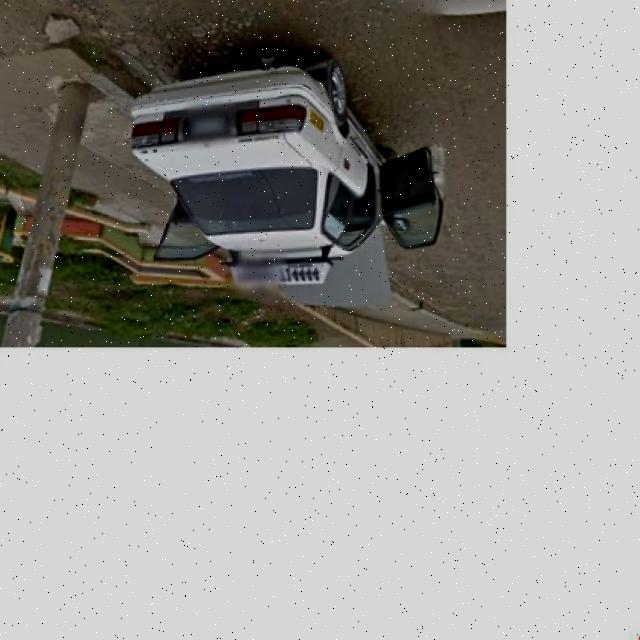car: (133, 33, 455, 299)
